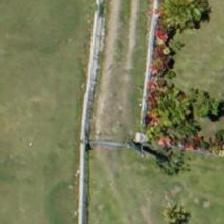coconut_tree: (136, 0, 223, 48)
